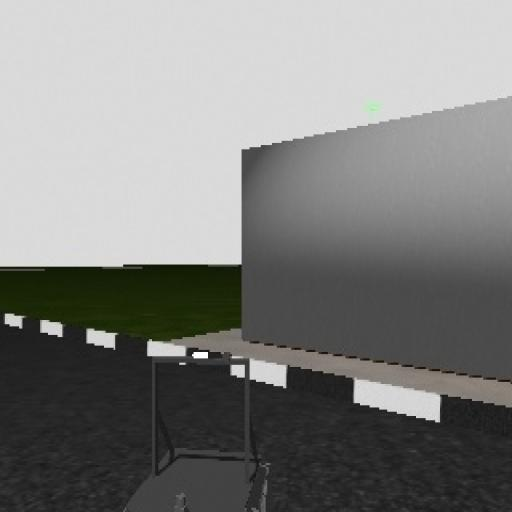huskya200: (110, 348, 301, 512)
